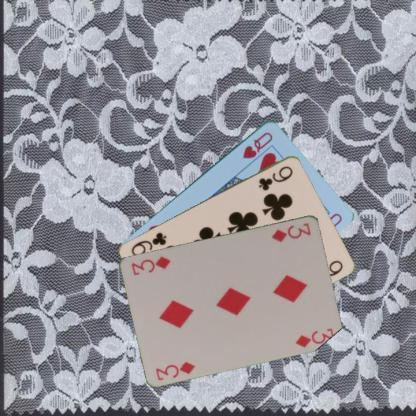3d: (268, 220, 312, 243), (153, 358, 197, 381)
9c: (256, 163, 295, 192)
Qh: (240, 128, 274, 160)
